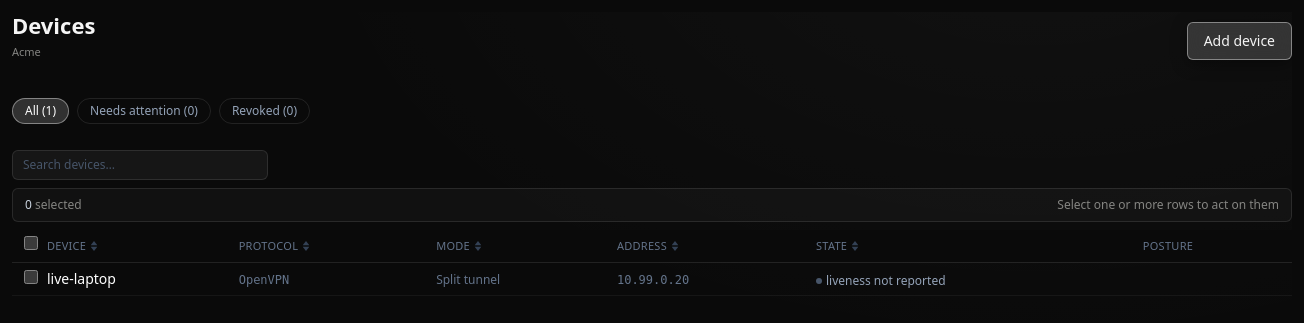
Test case: Devices, a pending device can be acted on HERE › ⚠ …AND THE CONVERSE, so 'always enabled' cannot pass: an ACTIVE device revokes and cannot be approved
Expected: the table named "Devices" is shown, [12,230,1292,296]
Step 1. Click the checkbox named "Select live-laptop" → [31, 277], box [24,270,38,284]
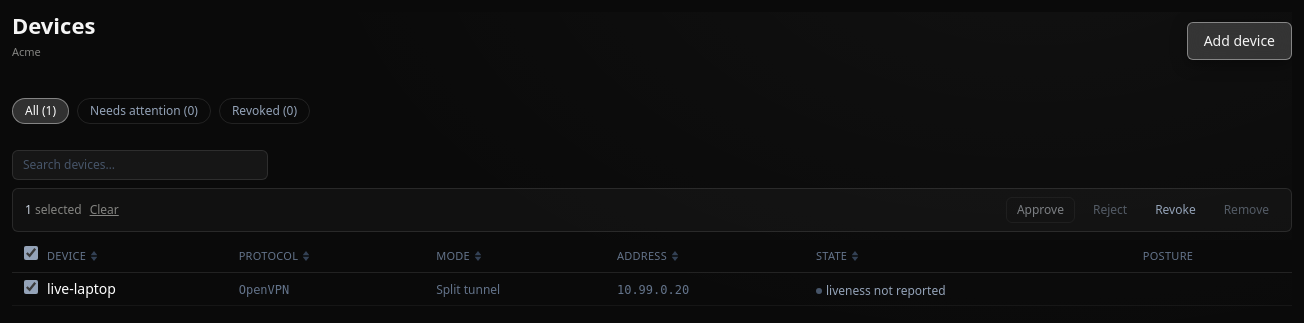
Result: the button "Revoke" is enabled at [1145,198,1206,222]
Result: the button "Approve" is disabled at [1006,197,1075,223]
